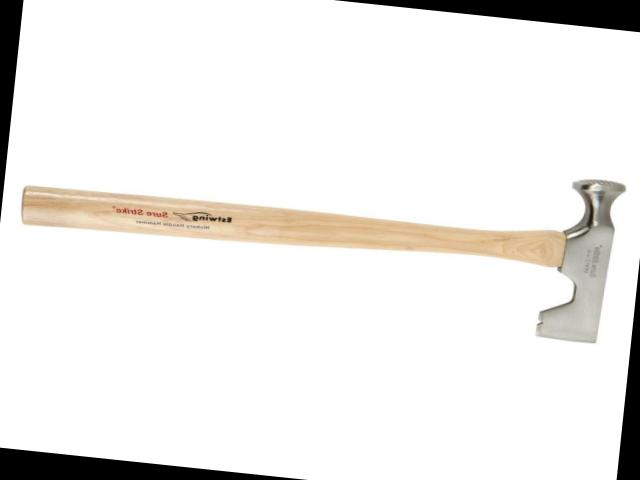hammer: (11, 117, 631, 347)
